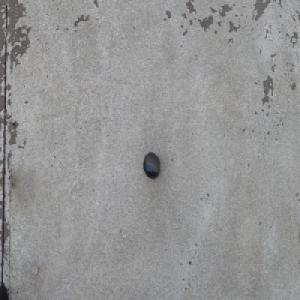FuelCap: (143, 151, 160, 179)
